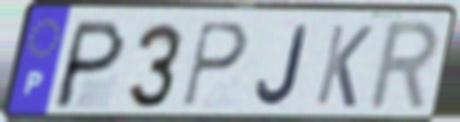3: (126, 19, 185, 111)
J: (254, 23, 311, 109)
K: (312, 21, 376, 111)
P: (49, 17, 130, 113), (179, 19, 250, 111)
R: (363, 18, 442, 115)
